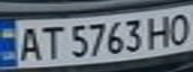3: (124, 16, 148, 53)
5: (66, 21, 90, 60)
6: (106, 17, 127, 55)
7: (84, 20, 109, 57)
A: (12, 24, 45, 62)
H: (145, 11, 175, 50)
O: (163, 9, 193, 46)
T: (36, 22, 66, 61)
